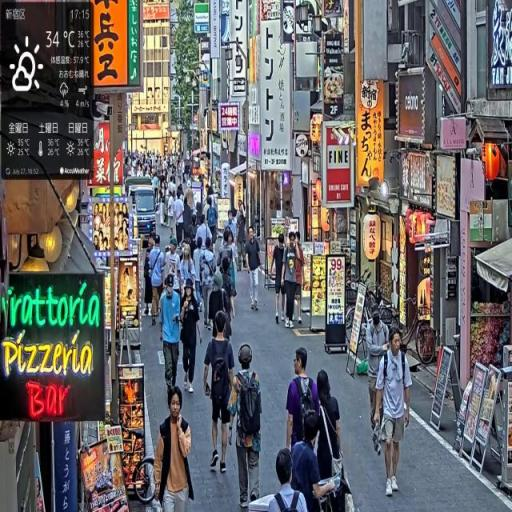person: (374, 325, 414, 500), (229, 341, 264, 512), (204, 310, 239, 476), (155, 387, 196, 512), (291, 416, 340, 512), (286, 348, 323, 456), (159, 273, 183, 403), (266, 447, 311, 512), (181, 279, 204, 396), (200, 234, 220, 338), (282, 232, 302, 331), (149, 233, 167, 327), (245, 226, 263, 314), (272, 232, 288, 325)
